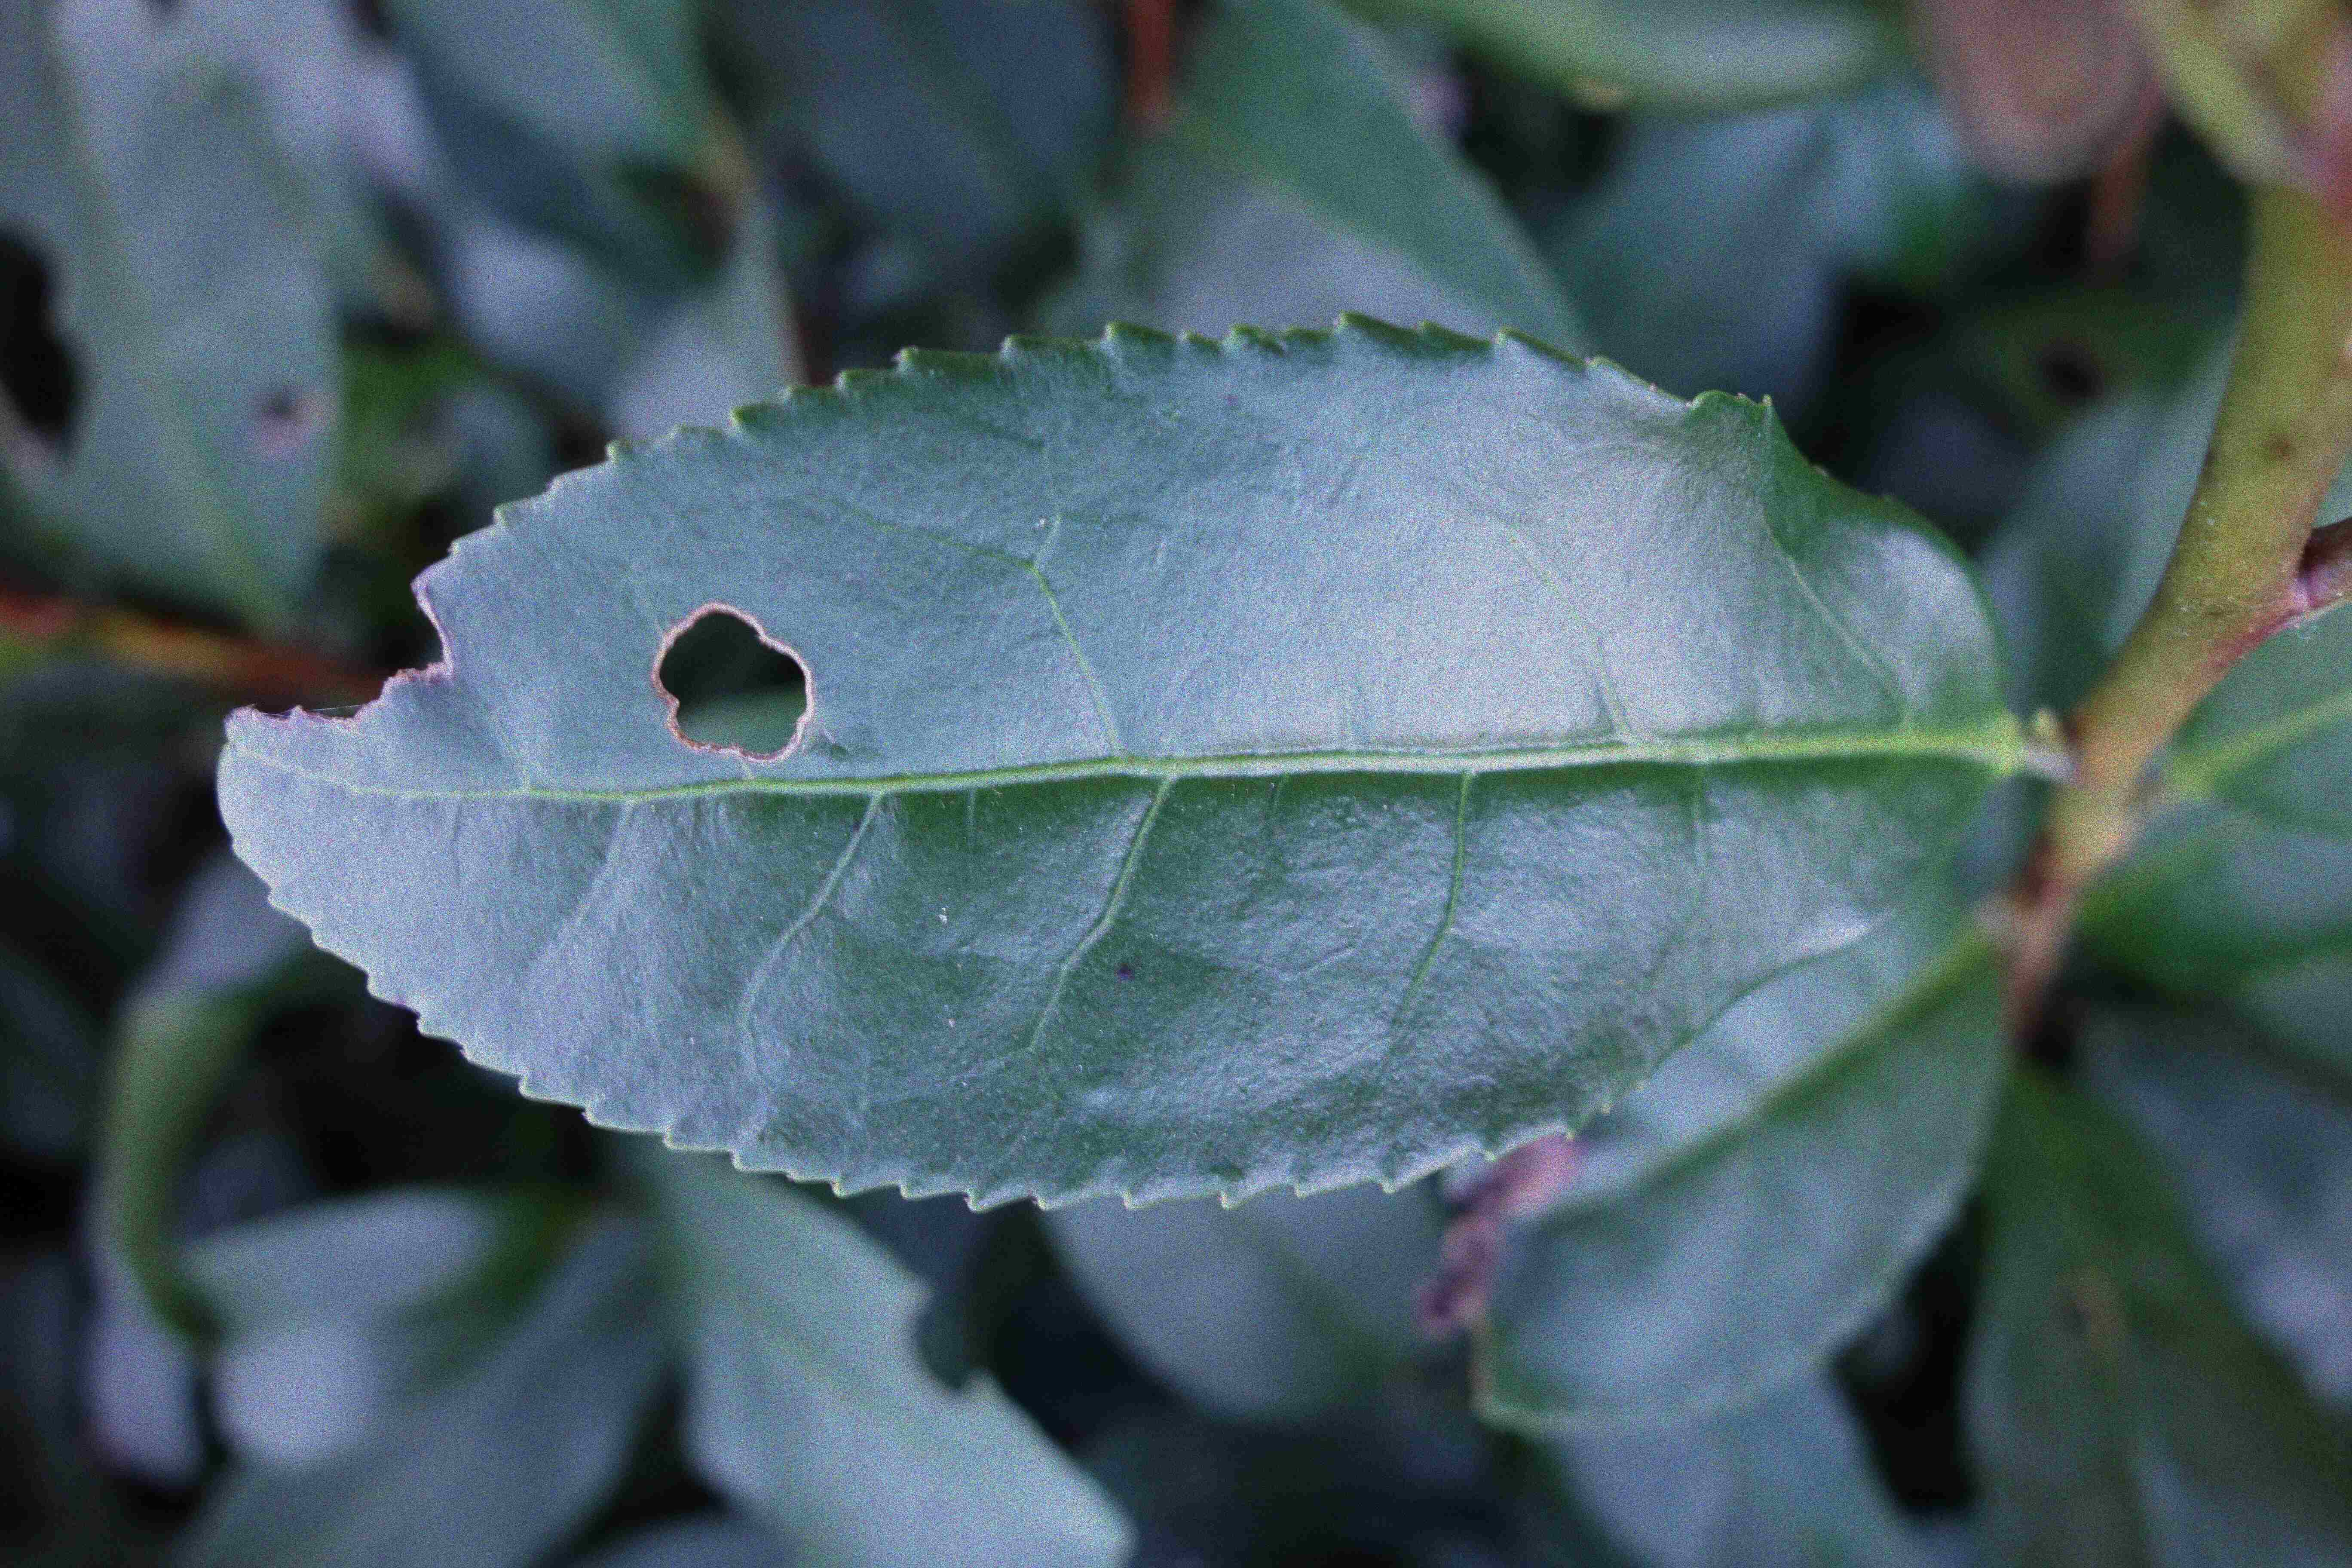chihuo_high: (212, 308, 2028, 1206)
